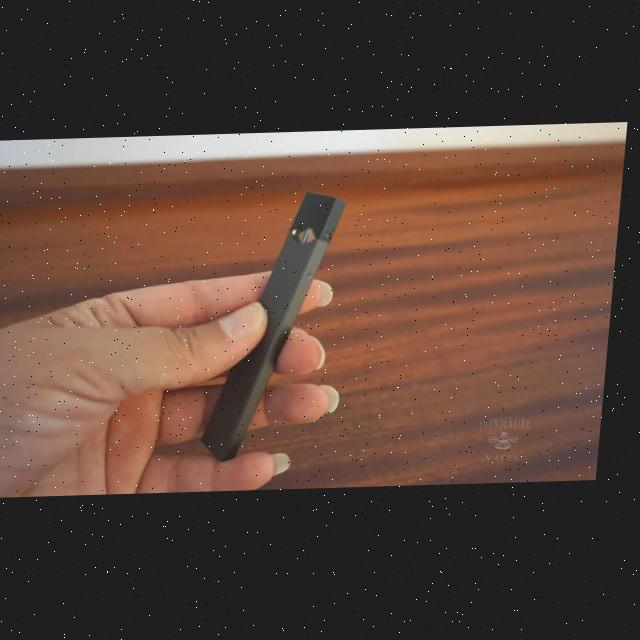vape: (206, 192, 351, 465)
